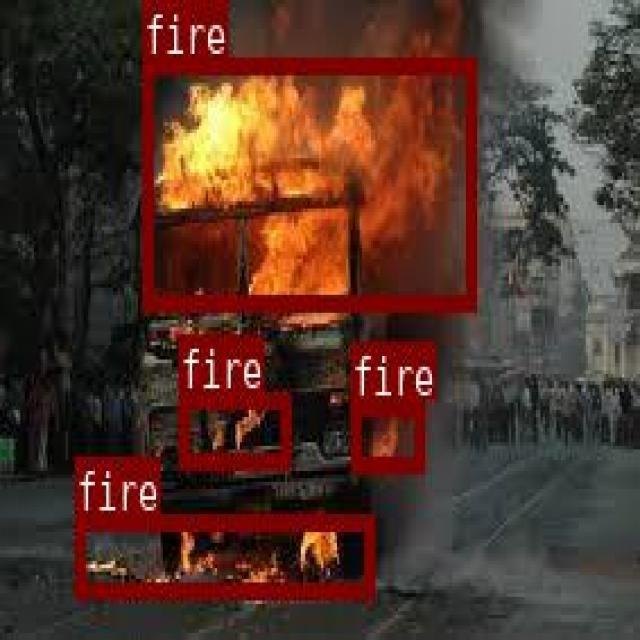fire: (142, 56, 474, 309), (74, 512, 372, 595), (177, 391, 289, 465), (350, 398, 423, 469)
